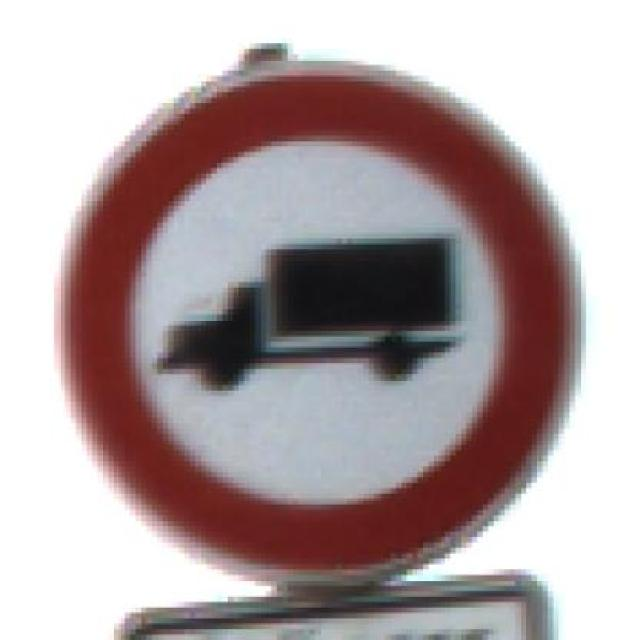Truck traffic is prohibited: (49, 22, 580, 580)
